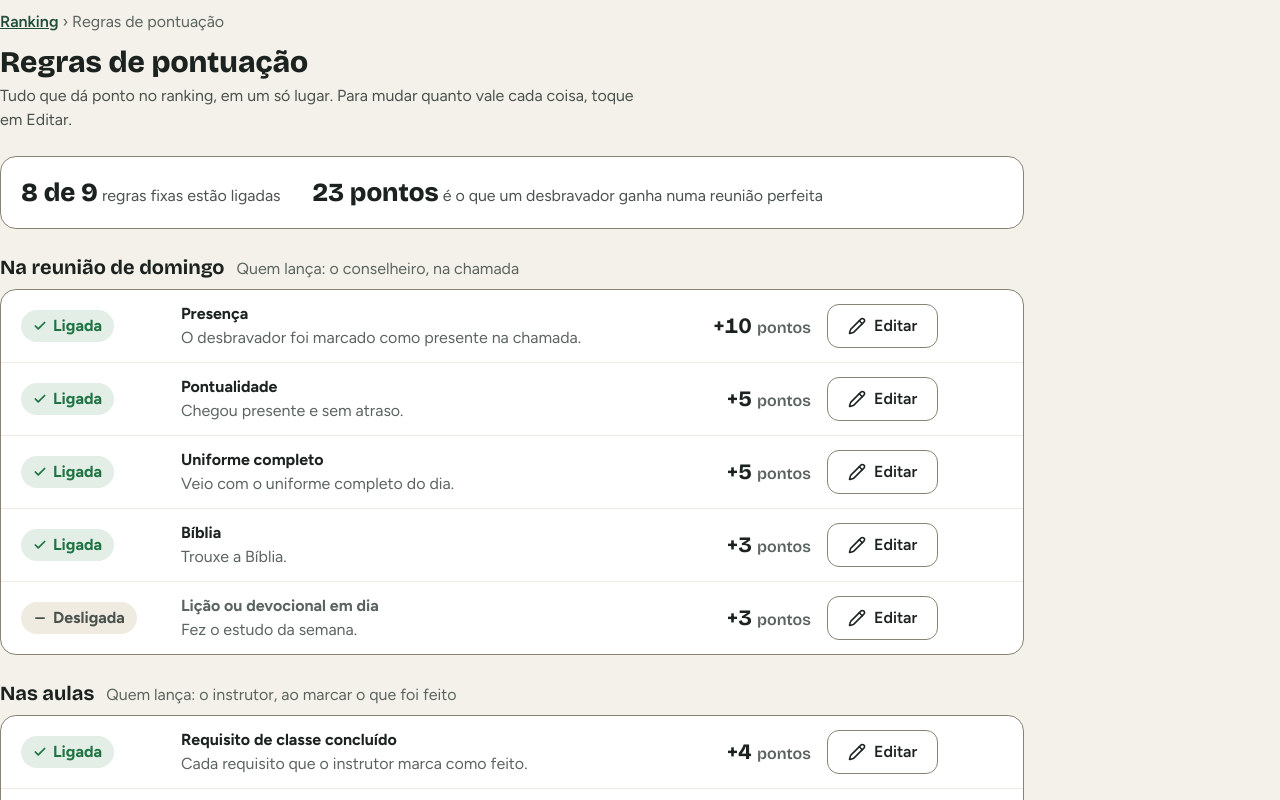
Test: Regras de pontuação · conteúdo › religar Lição recalcula o resumo e destaca a linha
Step 1. Click the button with aria-label "Editar Lição ou devocional em dia" → (883, 618), box [827,596,938,640]
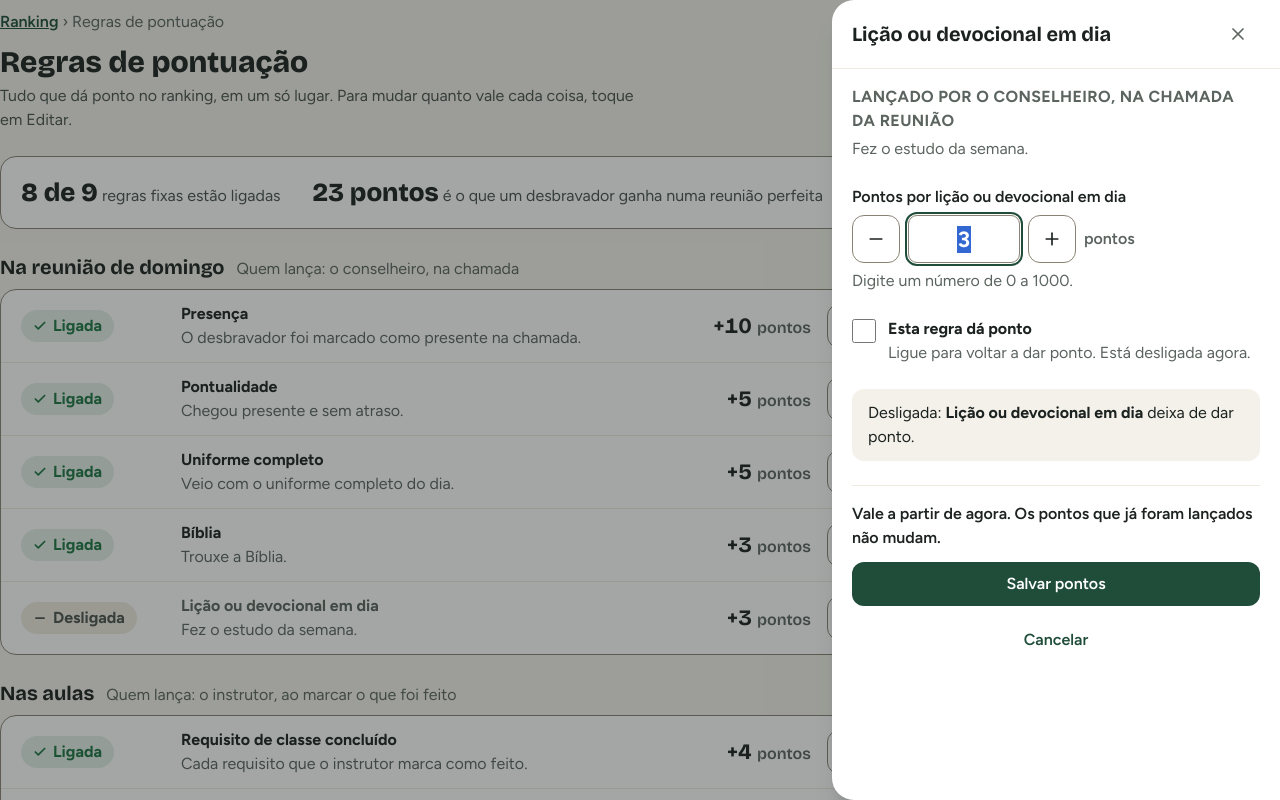
Step 2. Click the checkbox labelled "Esta regra dá ponto" → (864, 331), box [852,319,876,343]
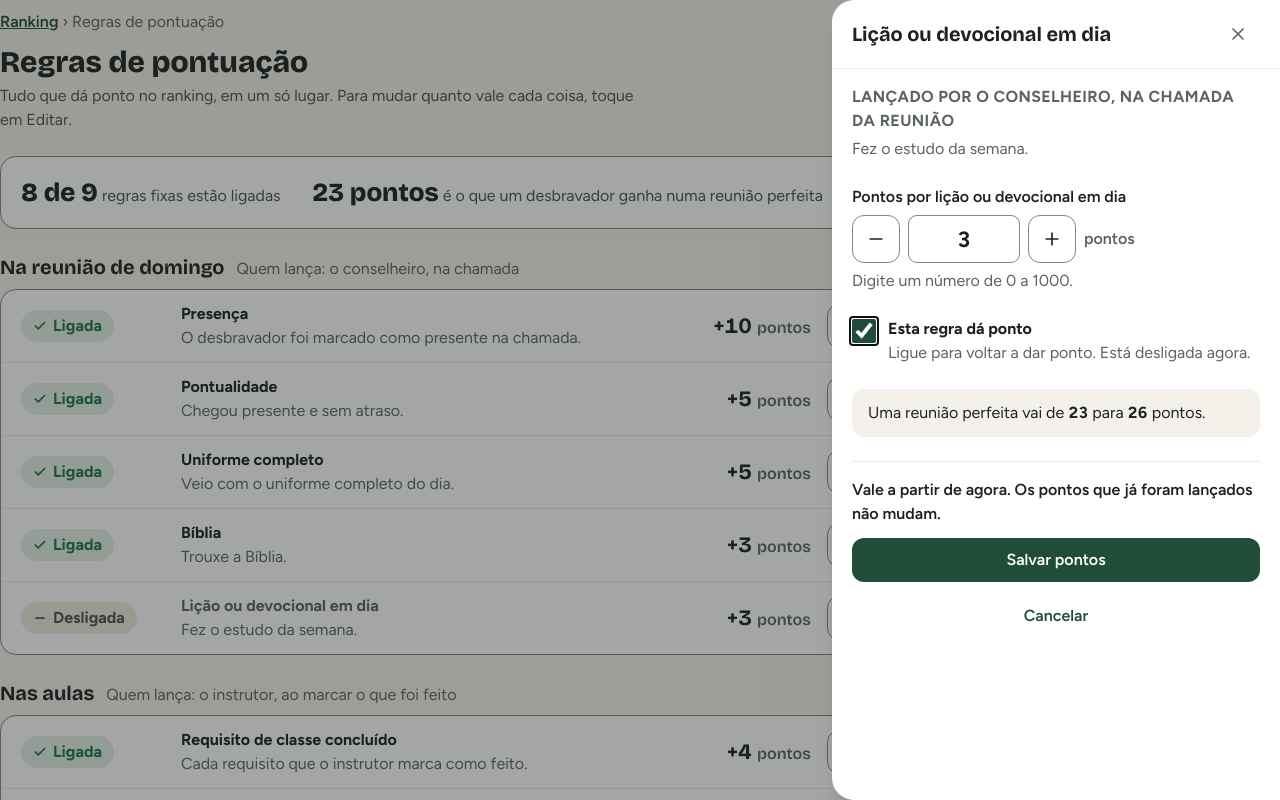
Step 3. Click the button "Salvar pontos" → (1056, 560), box [852,538,1260,582]
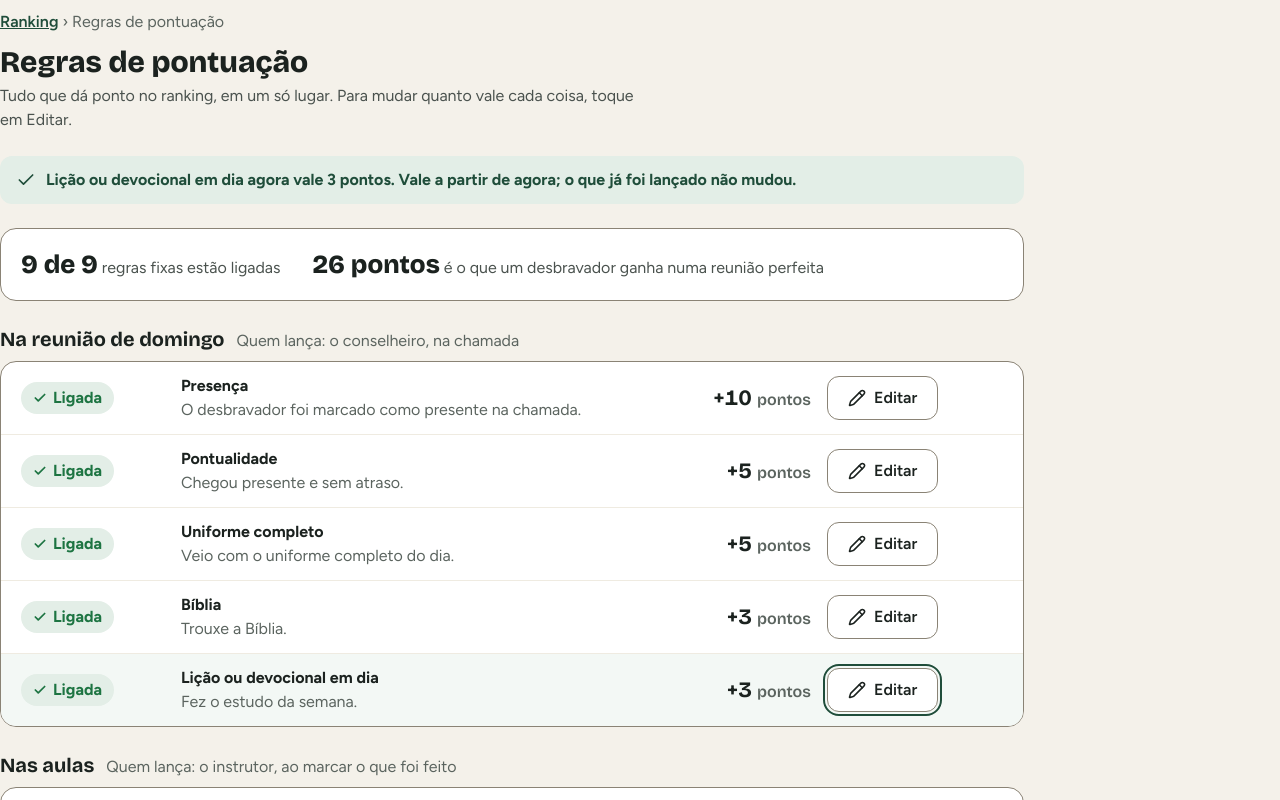
Check: the text "9 de 9" is shown, box [21,249,98,280]
Check: the text "26 pontos" is shown, box [312,249,440,280]
